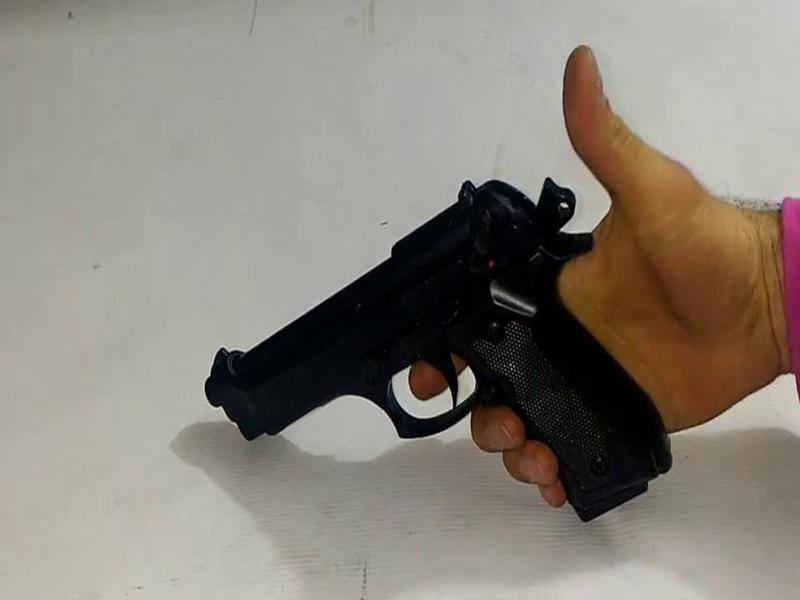Pistola: (187, 160, 677, 516)
